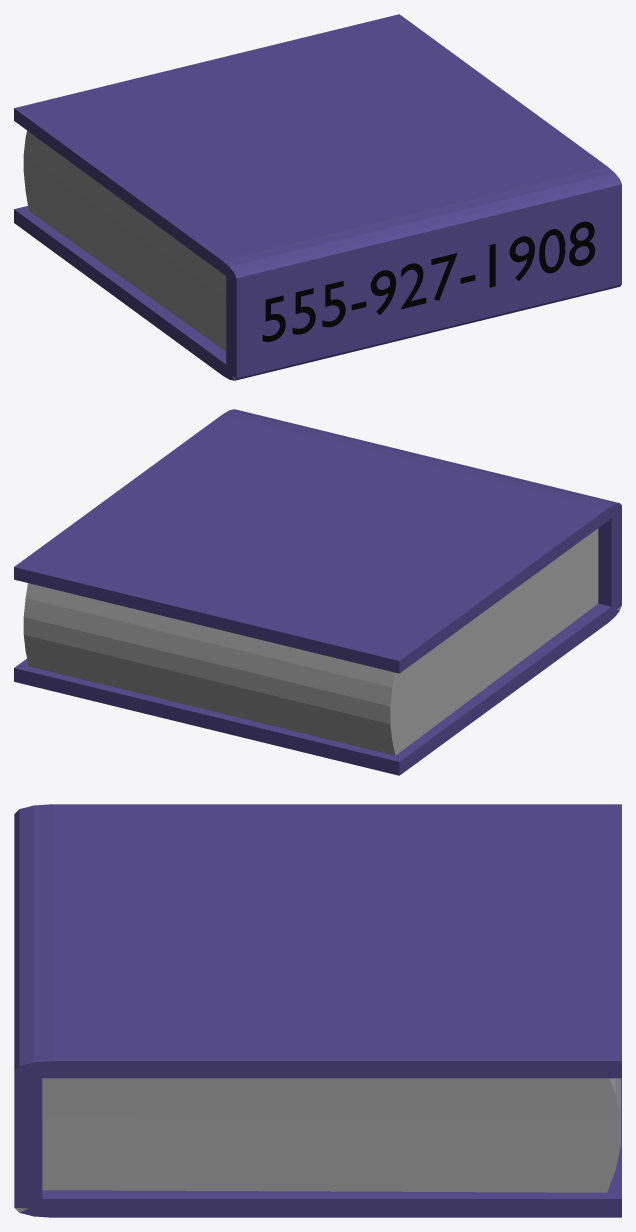
File: PurpleClueBook.glb
The picture shows the model from 3 angles, top to bottom: view 1: azimuth 30°, elevation 25°; view 2: azimuth 150°, elevation 25°; view 3: azimuth 270°, elevation 25°; orthographic projection. The views are drawn at different scales.
Parts seen in each view (by area): view 1: Cube, Text; view 2: Cube; view 3: Cube.
Part boxes in pixels (x1,y1,x2,y2): Cube: [14, 14, 621, 380]; Text: [262, 221, 595, 341]; Cube: [14, 409, 621, 775]; Cube: [14, 804, 621, 1217].
Size of the model in its own units: 0.7634 by 0.2172 by 0.7636.
